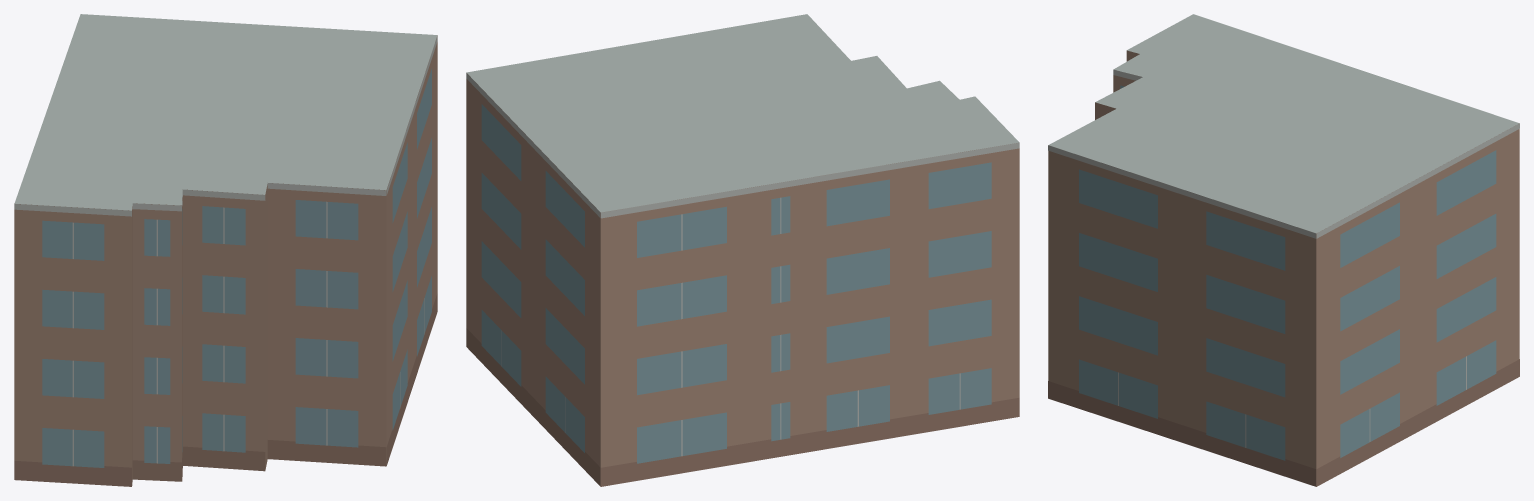
File: survey-upis-32882779.glb
3 renders of one model, left to right at view 1: azimuth 30°, elevation 25°; view 2: azimuth 150°, elevation 25°; view 3: azimuth 270°, elevation 25°, orthographic. The views are drawn at different scales.
Parts seen in each view (by area): view 1: survey-upis-32882779.tmp; view 2: survey-upis-32882779.tmp; view 3: survey-upis-32882779.tmp.
Part boxes in pixels (<box>): survey-upis-32882779.tmp: <box>14,14,437,486</box>; survey-upis-32882779.tmp: <box>466,14,1019,486</box>; survey-upis-32882779.tmp: <box>1048,14,1519,486</box>.
Bounding box in the file's own units: 21.18 × 11.4 × 19.23.
